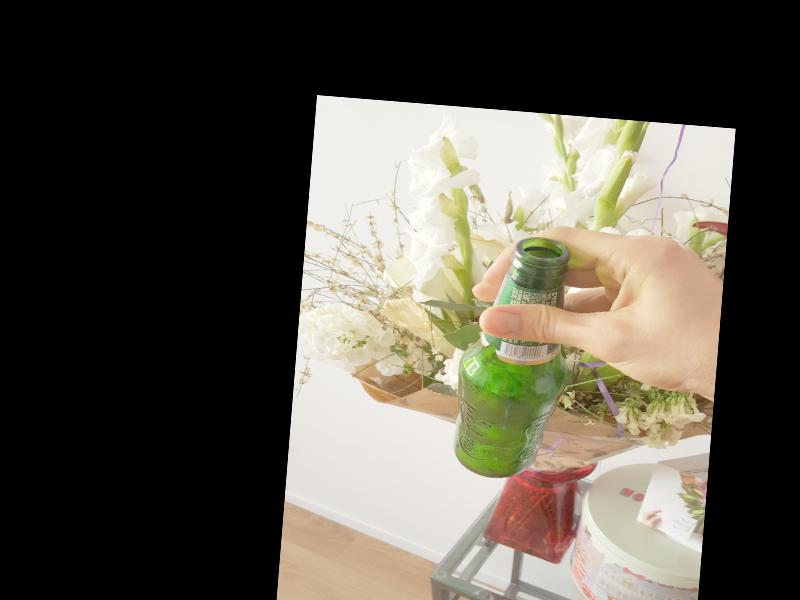Beer: (449, 233, 577, 483)
